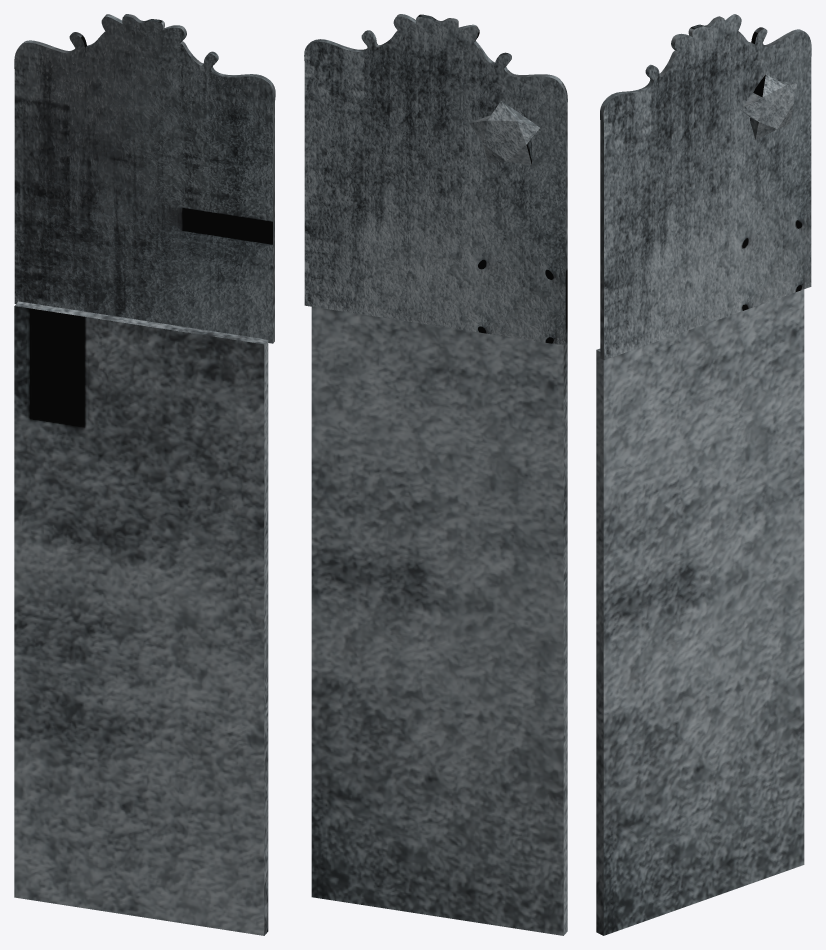
File: store_46.obj
3 renders of one model, left to right at view 1: azimuth 30°, elevation 25°; view 2: azimuth 210°, elevation 25°; view 3: azimuth 270°, elevation 25°, orthographic. The views are drawn at different scales.
Size of the model in its own units: 23.92 by 125 by 27.81.
